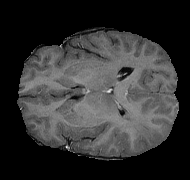Edema: (111, 95, 174, 155)
Necrosis: (133, 109, 172, 127)
